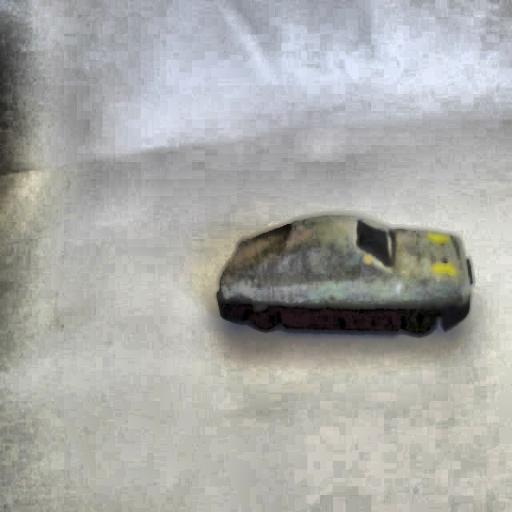normal_car: (214, 212, 476, 338)
